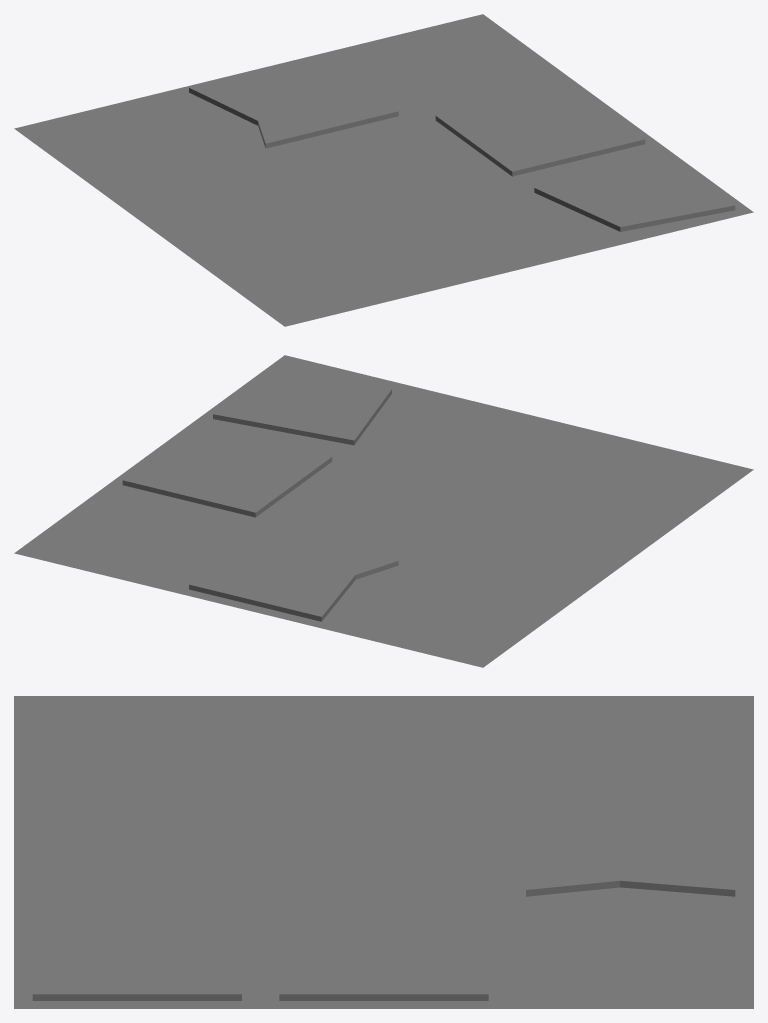
Rendered from stone_floor4.fbx.
The picture shows the model from 3 angles, top to bottom: view 1: azimuth 30°, elevation 25°; view 2: azimuth 150°, elevation 25°; view 3: azimuth 270°, elevation 25°; orthographic projection. The views are drawn at different scales.
Parts seen in each view (by area): view 1: stone_floor4; view 2: stone_floor4; view 3: stone_floor4.
Boxes of the visible parts, box(x1,y1,x2,y2) form: stone_floor4: box(14, 14, 753, 326); stone_floor4: box(14, 355, 753, 667); stone_floor4: box(14, 696, 753, 1008).
Size of the model in its own units: 200 by 2 by 200.
